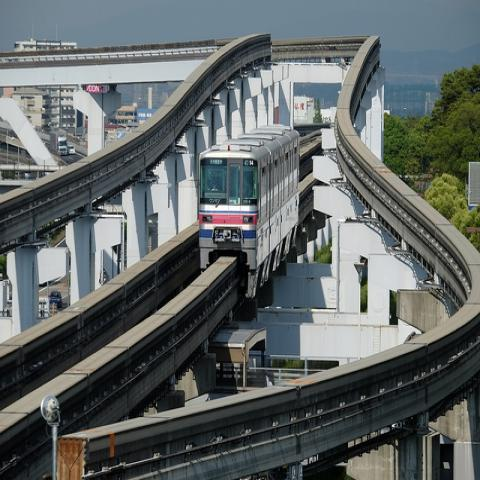car: (50, 290, 63, 307), (68, 144, 76, 154)
truck: (49, 127, 69, 157), (50, 291, 63, 307)
